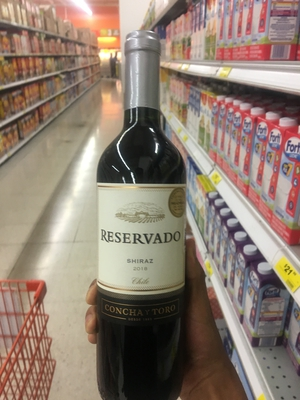reservado shiraz: (96, 39, 182, 388)
